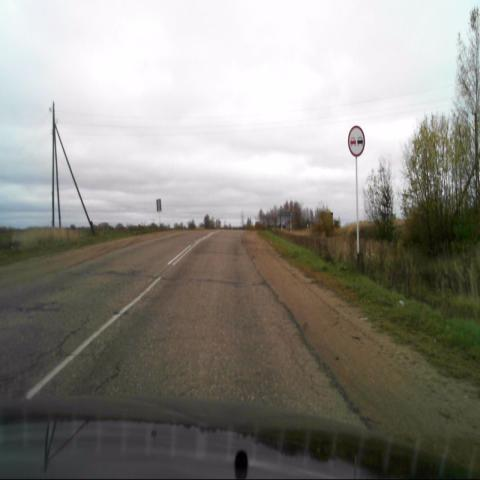3_20: (346, 124, 366, 159)
